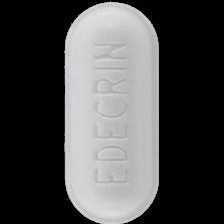69189-0371: (0, 0, 224, 224)
